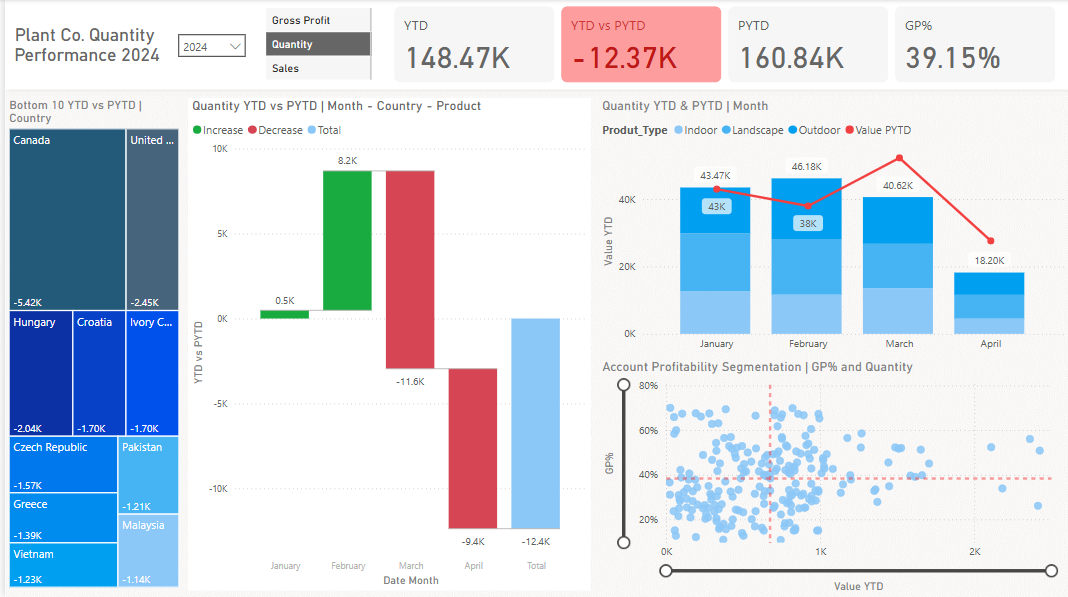

Layout of this report page (visuals, bound fields, positions):
{"tool":"powerbi","page":{"name":"Performance Report","canvas":[1280,720],"ordinal":0},"visuals":[{"type":"cardVisual","fields":{"Data":["_Measures.S_YTD","_Measures.YTD vs PYTD","_Measures.S_PYTD","_Measures.GP%"]},"box":[463,4.2,806.2,102.1],"z":0},{"type":"advancedSlicerVisual","fields":{"Values":["Slc_Values.Values"]},"box":[309.8,5.9,137.3,98],"z":1000},{"type":"slicer","fields":{"Values":["Dim_Date.Date.Variation.Date Hierarchy.Year"]},"box":[198.4,32.7,101.3,50.2],"z":2000},{"type":"treemap","title":"Bottom 10 YTD vs PYTD | Country","fields":{"Values":["_Measures.YTD vs PYTD"],"Group":["Dim_Account.country"]},"box":[0,118.7,214.6,594.4],"z":3000},{"type":"waterfallChart","fields":{"Y":["_Measures.YTD vs PYTD"],"Category":["Dim_Date.Date.Variation.Date Hierarchy.Month","Dim_Account.country","Dim_Product.Produt_Type","Dim_Product.Product_Name"]},"box":[220.3,119.6,485.2,593.5],"z":4000},{"type":"lineStackedColumnComboChart","fields":{"Y":["_Measures.S_YTD"],"Y2":["_Measures.S_PYTD"],"Category":["Dim_Date.Date.Variation.Date Hierarchy.Quarter","Dim_Date.Date.Variation.Date Hierarchy.Month"],"Series":["Dim_Product.Produt_Type"]},"box":[714.1,119.6,565.9,314.3],"z":5000},{"type":"scatterChart","fields":{"Y":["_Measures.GP%"],"X":["_Measures.S_YTD"],"Category":["Dim_Account.Account"]},"box":[714.1,433.9,565.9,285.8],"z":6000},{"type":"card","fields":{"Values":["_Measures._Report title"]},"box":[0,20.9,198.5,68.4],"z":7000}]}

Visuals, with their boxes in screenshot pixels (x1, y1, x2, y2), scaled from the page's 1280x720 canvas onto the 1068x597 screenshot:
cardVisual - _Measures.S_YTD x _Measures.YTD vs PYTD: bbox=[386, 3, 1059, 88]
advancedSlicerVisual - Slc_Values.Values: bbox=[258, 5, 373, 86]
slicer - Dim_Date.Date.Variation.Date Hierarchy.Year: bbox=[166, 27, 250, 69]
"Bottom 10 YTD vs PYTD | Country" treemap: bbox=[0, 98, 179, 591]
waterfallChart - _Measures.YTD vs PYTD x Dim_Date.Date.Variation.Date Hierarchy.Month: bbox=[184, 99, 589, 591]
lineStackedColumnComboChart - _Measures.S_YTD x _Measures.S_PYTD: bbox=[596, 99, 1067, 360]
scatterChart - _Measures.GP% x _Measures.S_YTD: bbox=[596, 360, 1067, 596]
card - _Measures._Report title: bbox=[0, 17, 166, 74]
